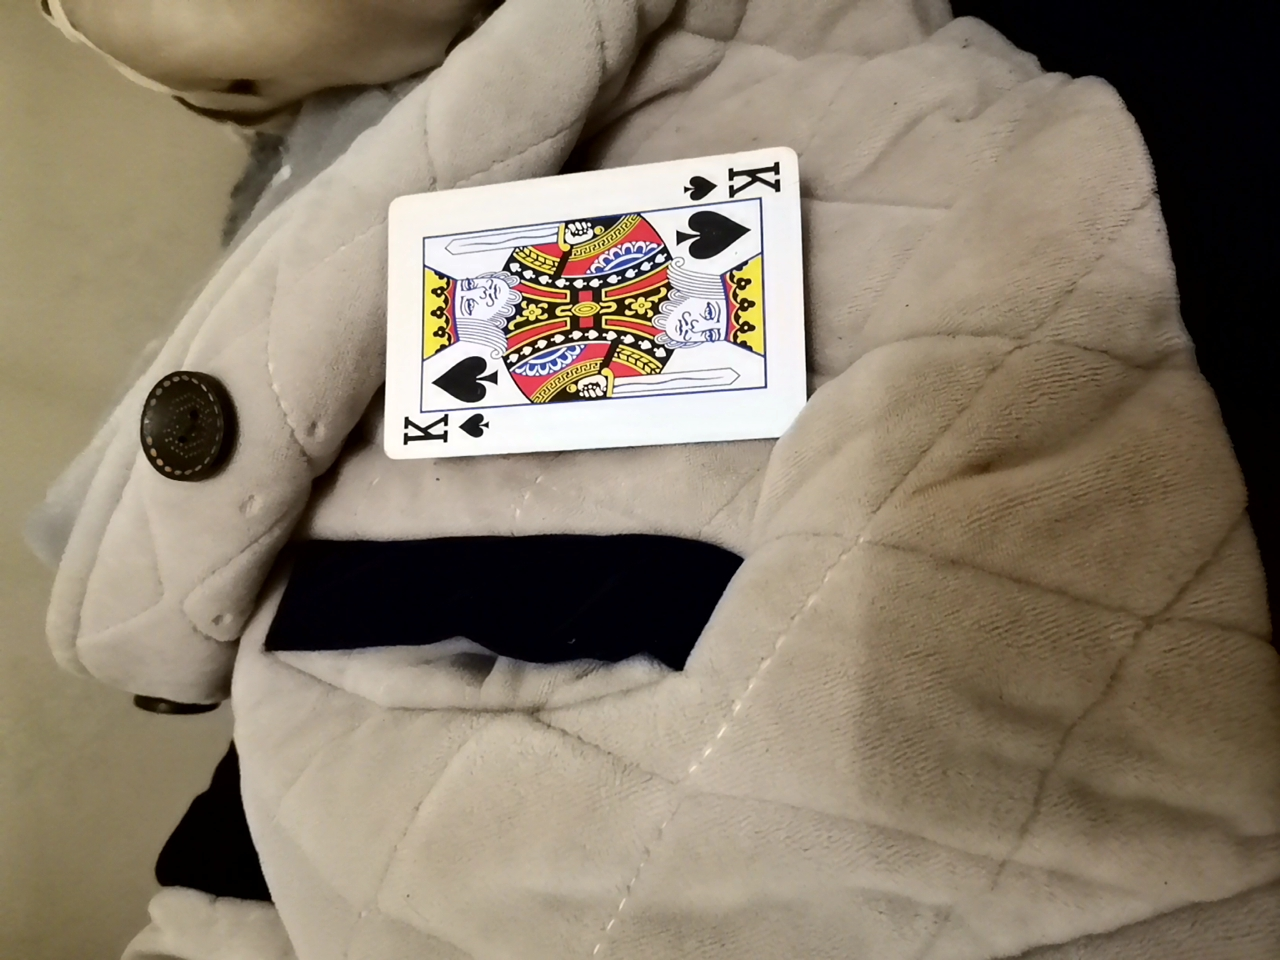ht k: (395, 156, 808, 469)
